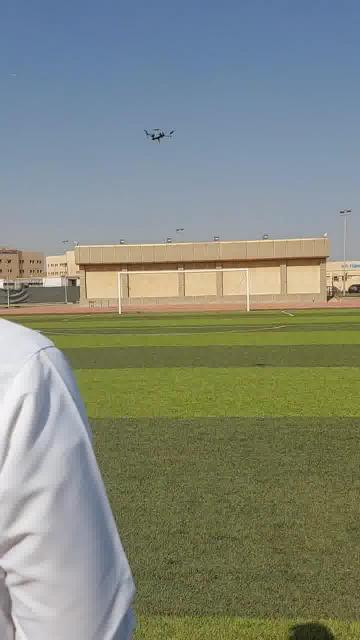drone: (141, 120, 175, 144)
